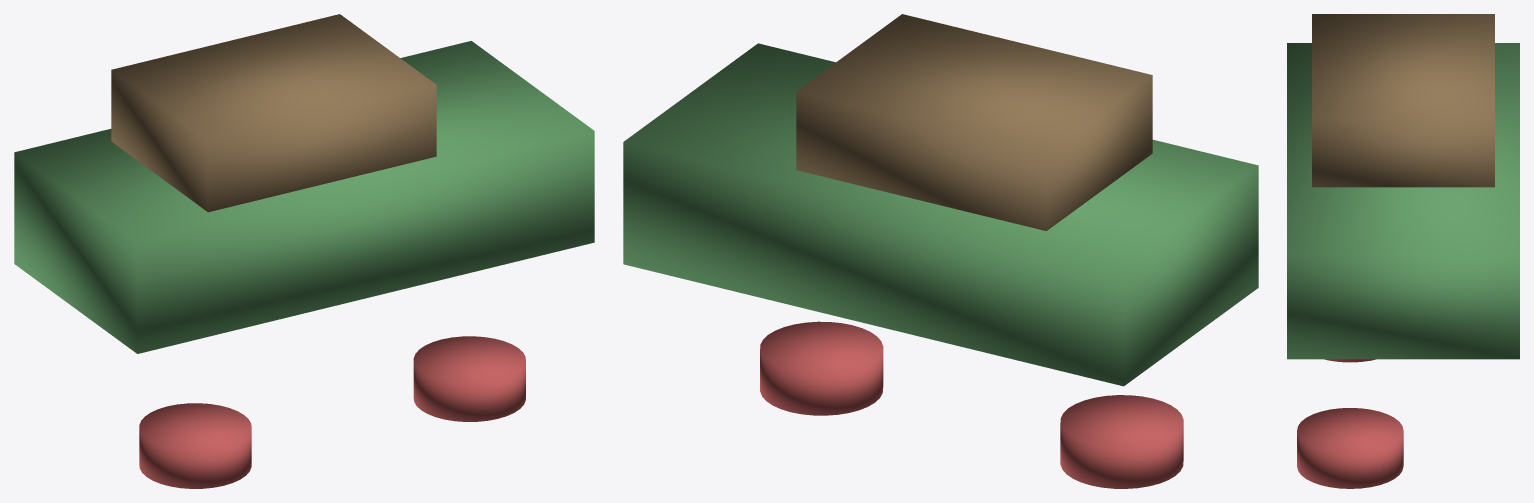
Rendered from zovix_ultimate_7352b525.glb.
3 renders of one model, left to right at view 1: azimuth 30°, elevation 25°; view 2: azimuth 150°, elevation 25°; view 3: azimuth 270°, elevation 25°, orthographic. The views are drawn at different scales.
Parts seen in each view (by area): view 1: world; view 2: world; view 3: world.
Boxes of the visible parts, <box> form: world: <box>14,14,594,488</box>; world: <box>623,14,1258,488</box>; world: <box>1287,14,1519,488</box>.
Size of the model in its own units: 1.5 by 1.07 by 0.7.
